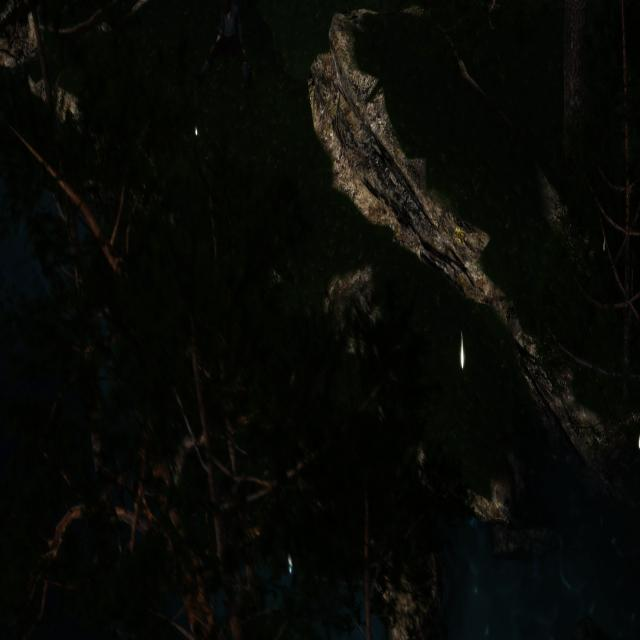Human: (198, 0, 253, 85)
